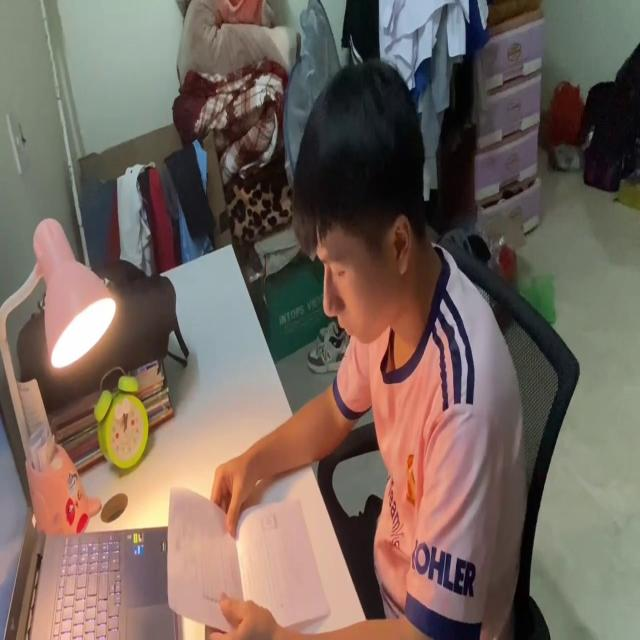book: (160, 479, 327, 635)
laptop: (0, 397, 182, 639)
student: (208, 54, 523, 640)
